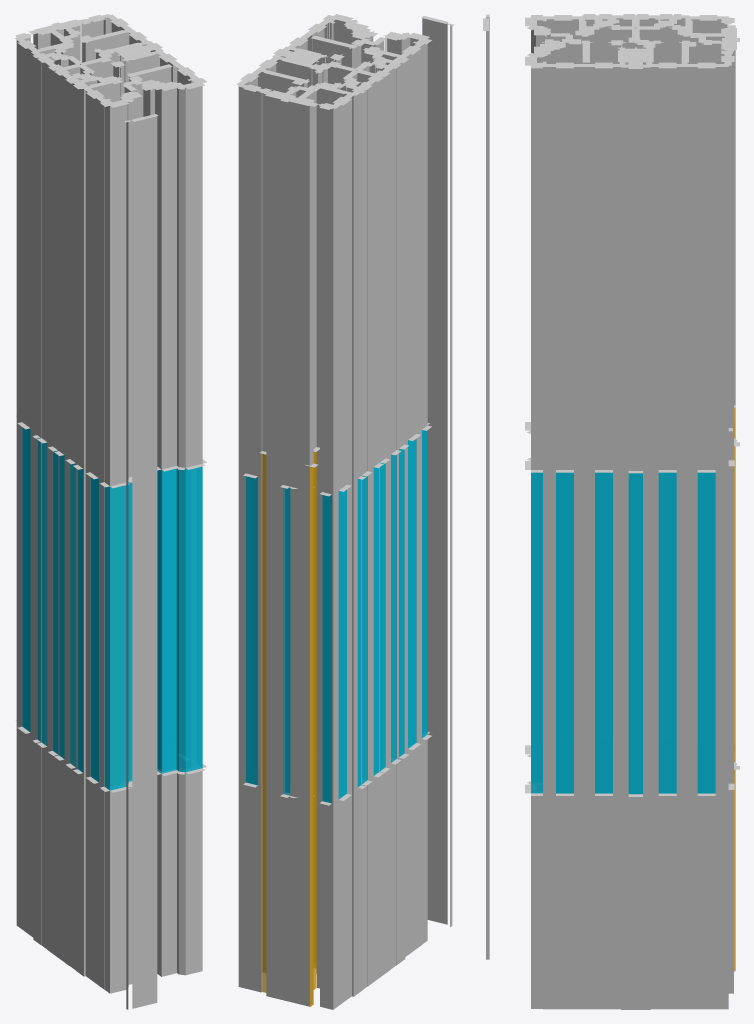
3 renders of one model, left to right at view 1: azimuth 30°, elevation 25°; view 2: azimuth 150°, elevation 25°; view 3: azimuth 270°, elevation 25°, orthographic. The views are drawn at different scales.
Visible parts, largest first — view 1: walls, windows, roof; view 2: walls, windows, doors, roof; view 3: walls, windows, roof, doors.
Part boxes in pixels (x1,y1,x2,y2): walls: (15, 15, 206, 1009); windows: (22, 427, 202, 790); roof: (15, 14, 198, 122); walls: (238, 14, 452, 1009); windows: (246, 430, 427, 803); doors: (262, 451, 316, 1006); roof: (236, 16, 454, 109); walls: (486, 14, 739, 1009); windows: (531, 472, 715, 794); roof: (483, 14, 736, 67); doors: (734, 407, 735, 971).
Bounding box in the file's own units: 0.438 × 3.5 × 0.8638.
